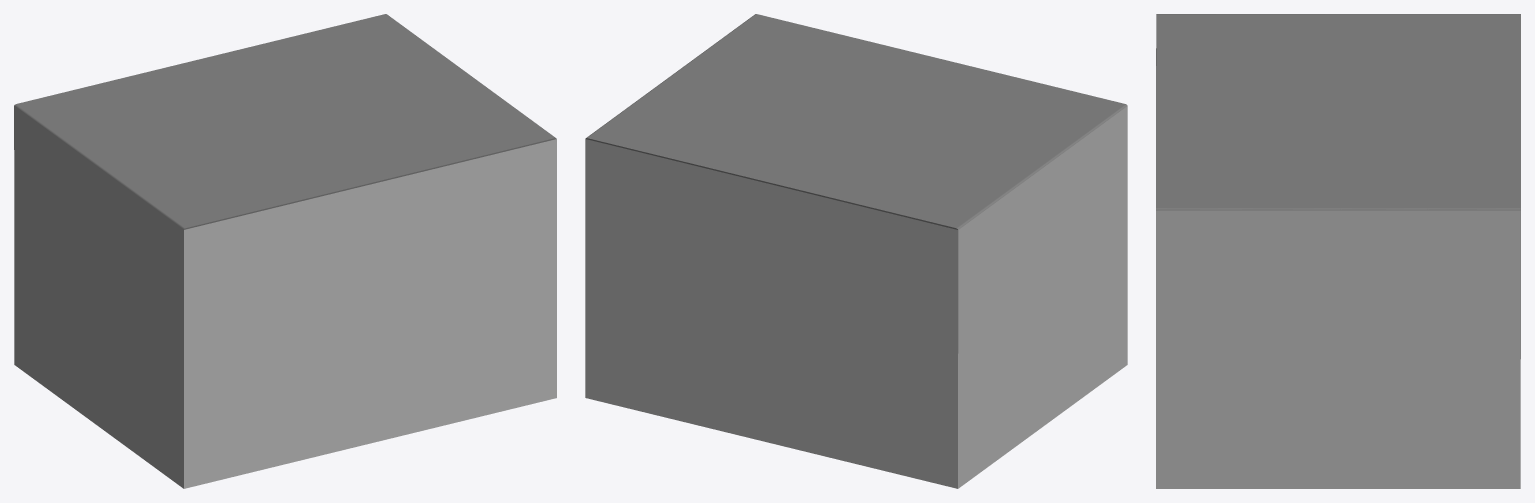
File: block_quadro.fbx
3 views of the same model, side by side, from view 1: azimuth 30°, elevation 25°; view 2: azimuth 150°, elevation 25°; view 3: azimuth 270°, elevation 25° (orthographic). The views are drawn at different scales.
Visible parts, largest first — view 1: block_quadro; view 2: block_quadro; view 3: block_quadro.
Boxes of the visible parts, left/top/right/bottom form: block_quadro: left=14, top=14, right=556, bottom=488; block_quadro: left=585, top=14, right=1127, bottom=488; block_quadro: left=1156, top=14, right=1520, bottom=488.
Bounding box in the file's own units: 180 × 120 × 142.
